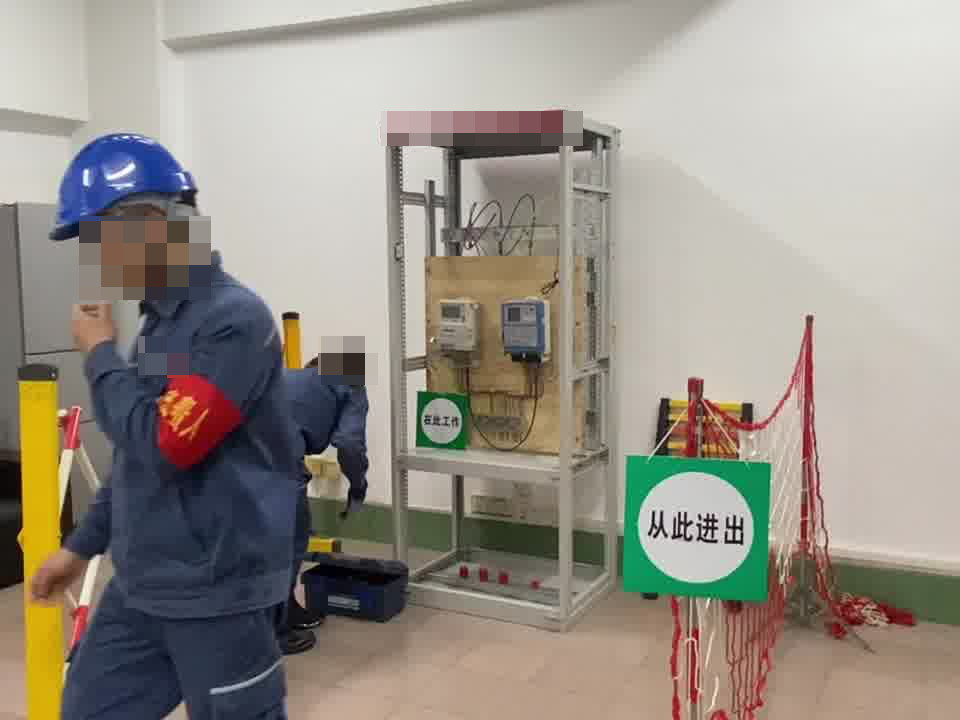badge: (156, 370, 245, 465)
downsuit: (50, 621, 302, 720)
halt: (50, 130, 211, 294)
hand: (32, 549, 82, 602), (70, 300, 110, 347)
inear: (112, 199, 188, 287)
intosign: (623, 456, 770, 599)
person: (35, 128, 299, 720), (282, 347, 368, 657)
unhalt: (318, 344, 367, 381)
upsuit: (78, 268, 360, 609)
worksign: (415, 393, 470, 452)
